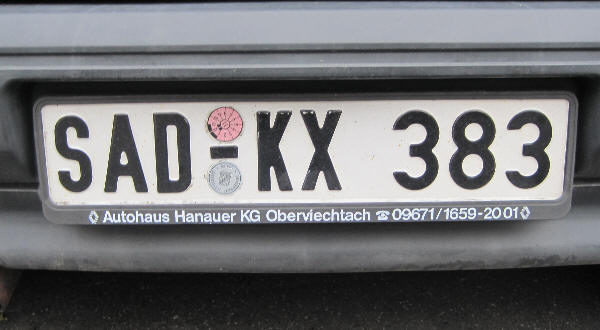license_plate: (38, 100, 569, 204)
